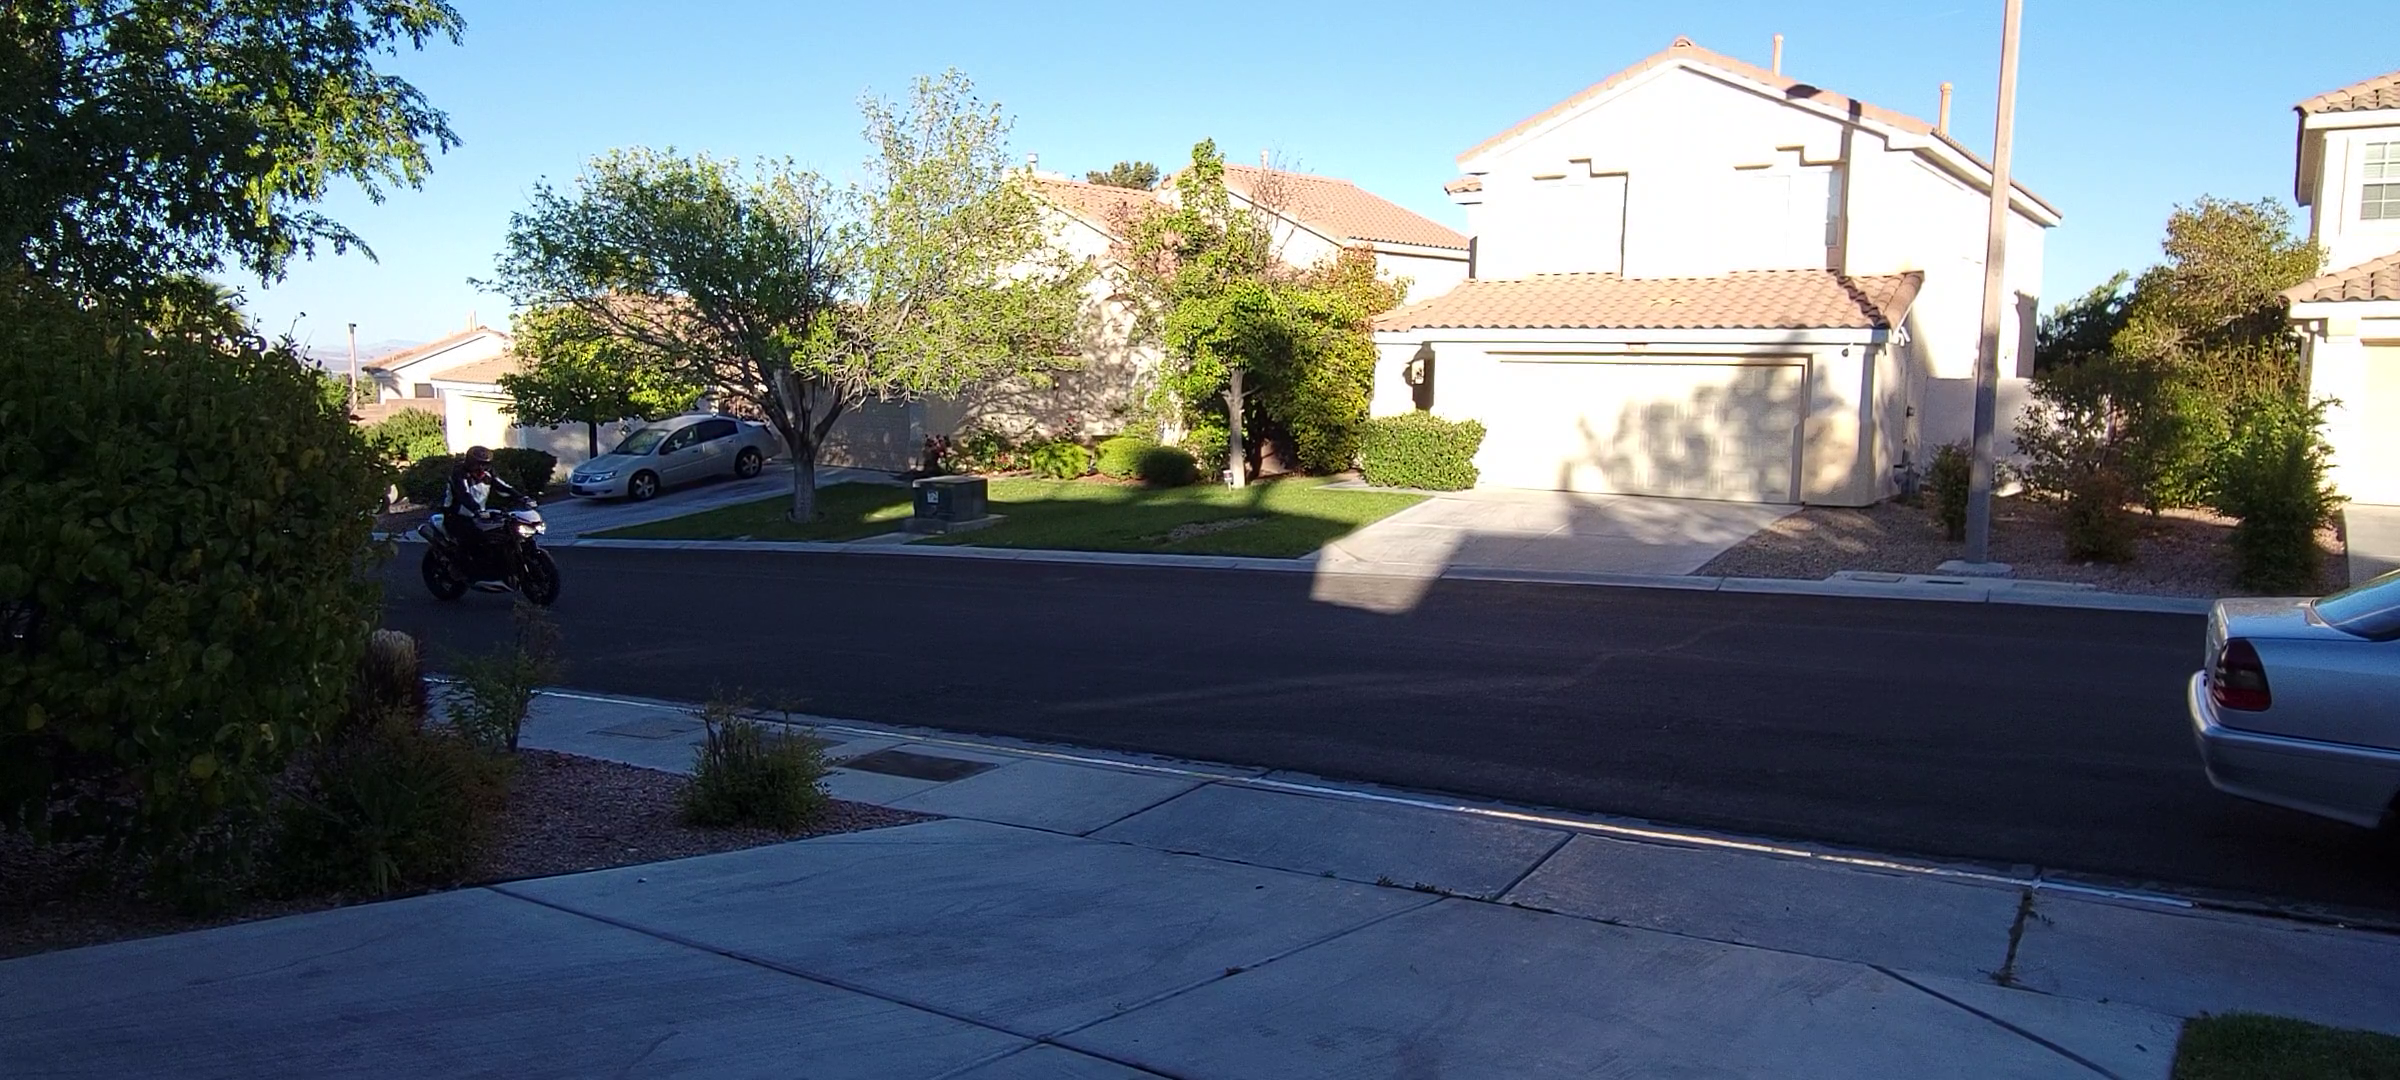other bike: (412, 442, 565, 610)
